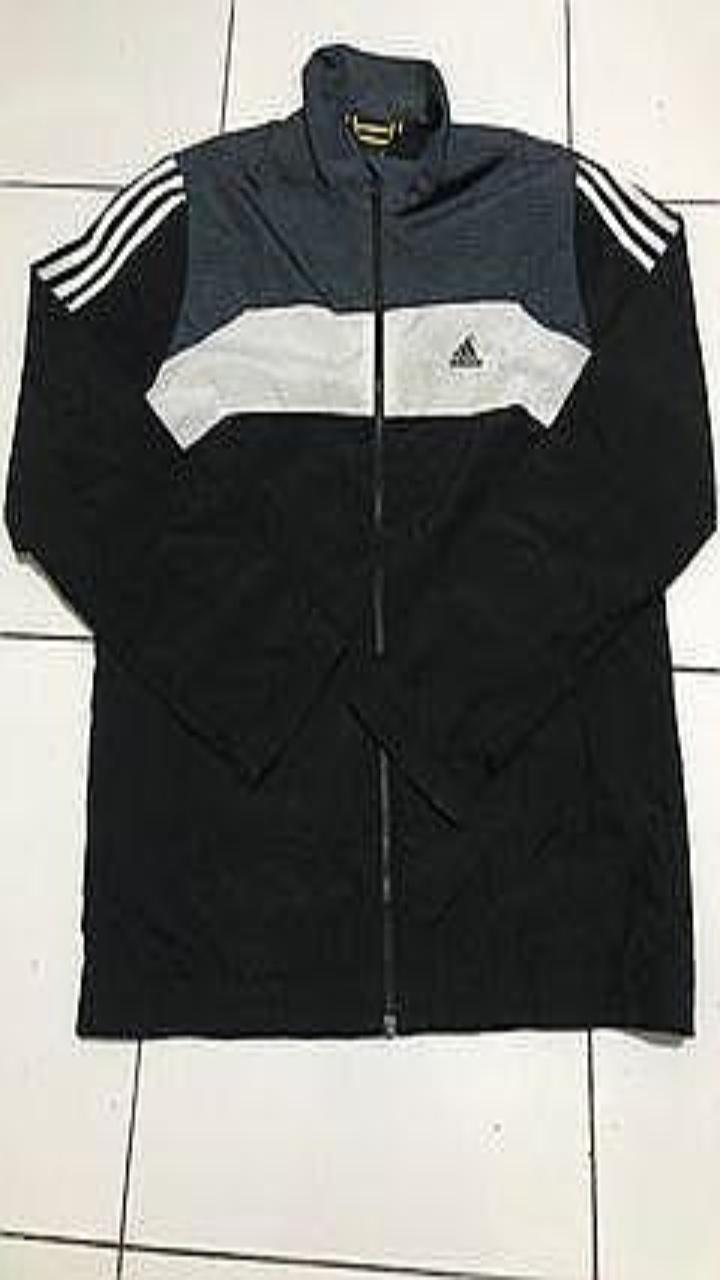Sports_Jacket: (4, 42, 715, 1036)
